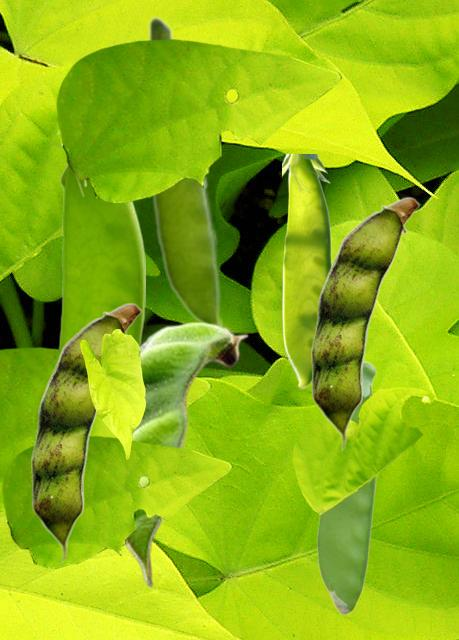pea: (114, 321, 248, 587), (31, 302, 141, 562), (311, 196, 419, 450), (144, 14, 223, 325), (56, 131, 144, 347), (316, 360, 377, 614), (282, 154, 331, 388)
